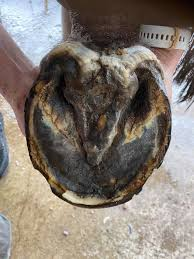horsesole: (24, 65, 172, 209)
